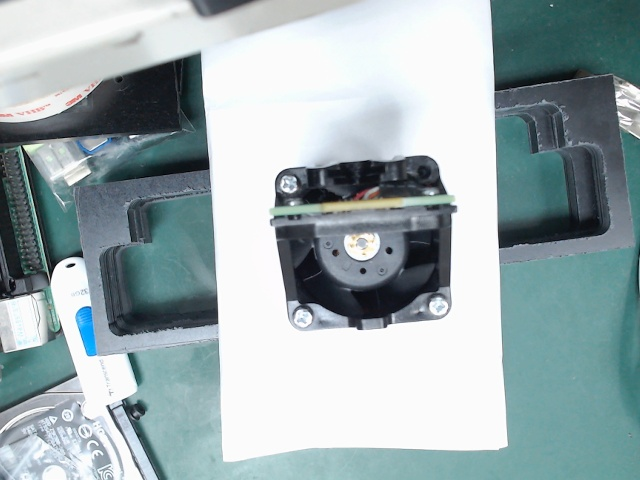2_0: (36, 51, 383, 346)
